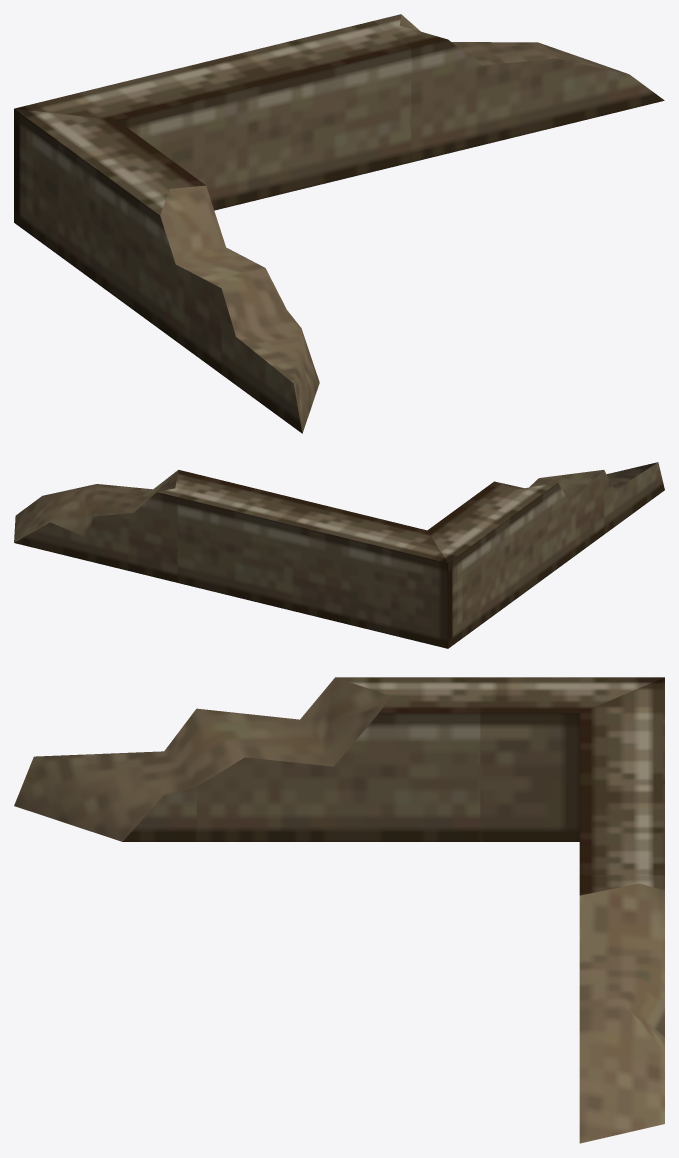
File: EnvBdgMD_Wilderness_C_Outdoor_RoofDeco_A.FBX
3 views of the same model, one above another, from view 1: azimuth 30°, elevation 25°; view 2: azimuth 150°, elevation 25°; view 3: azimuth 270°, elevation 25° (orthographic). The views are drawn at different scales.
Parts seen in each view (by area): view 1: EnvBdgMD_Wilderness_C_Outdoor_RoofDeco_A; view 2: EnvBdgMD_Wilderness_C_Outdoor_RoofDeco_A; view 3: EnvBdgMD_Wilderness_C_Outdoor_RoofDeco_A.
Part boxes in pixels (box(x1,y1,x2,y2)): EnvBdgMD_Wilderness_C_Outdoor_RoofDeco_A: box(14, 14, 664, 433); EnvBdgMD_Wilderness_C_Outdoor_RoofDeco_A: box(14, 462, 664, 648); EnvBdgMD_Wilderness_C_Outdoor_RoofDeco_A: box(14, 677, 664, 1143).
Bounding box in the file's own units: 281 × 50 × 229.
Materials: 1 (1 with a texture image).
